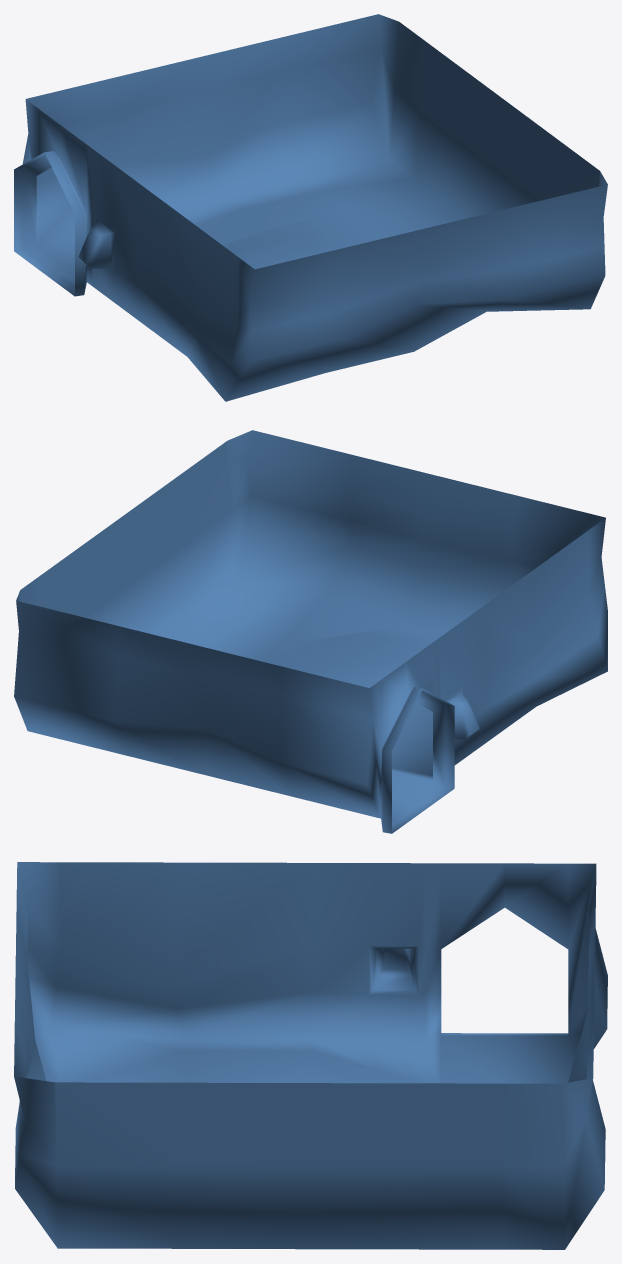
File: caveWalls.fbx
The picture shows the model from 3 angles, top to bottom: view 1: azimuth 30°, elevation 25°; view 2: azimuth 150°, elevation 25°; view 3: azimuth 270°, elevation 25°; orthographic projection. The views are drawn at different scales.
Parts seen in each view (by area): view 1: Plane; view 2: Plane; view 3: Plane.
Part boxes in pixels (x1,y1,x2,y2): Plane: (14,14,607,401); Plane: (14,430,607,833); Plane: (14,862,607,1249).
Size of the model in its own units: 1076 by 362 by 1004.
1 material, 1 textured.
